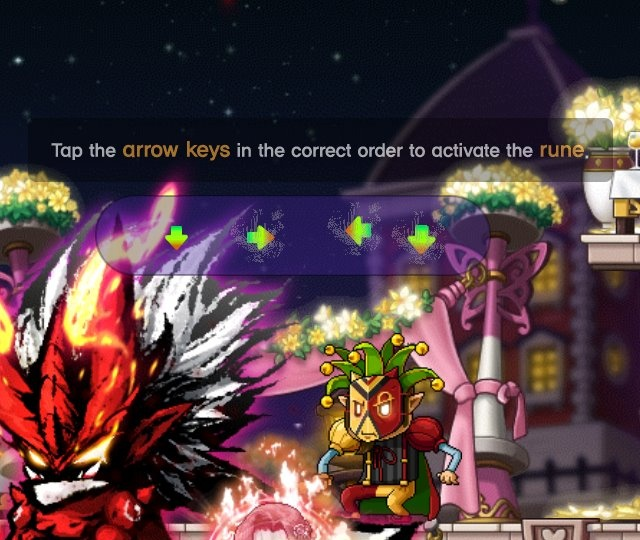down: (402, 218, 439, 258), (163, 222, 194, 256)
left: (340, 212, 376, 250)
right: (240, 222, 279, 256)
